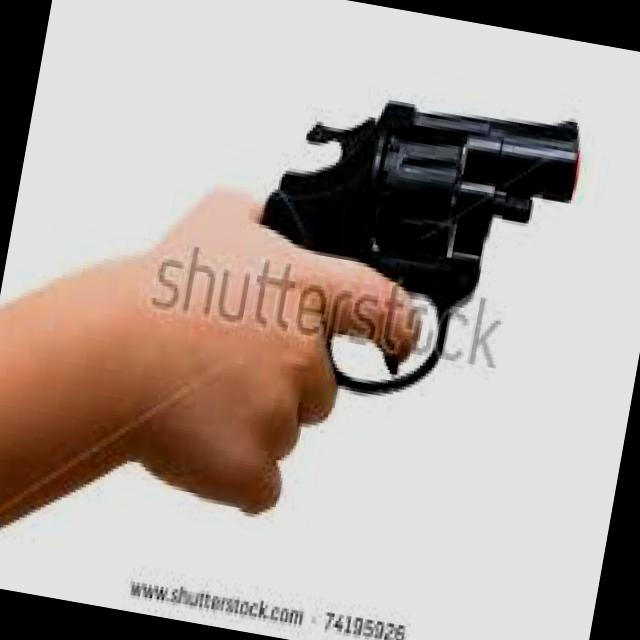handgun: (216, 35, 597, 427)
